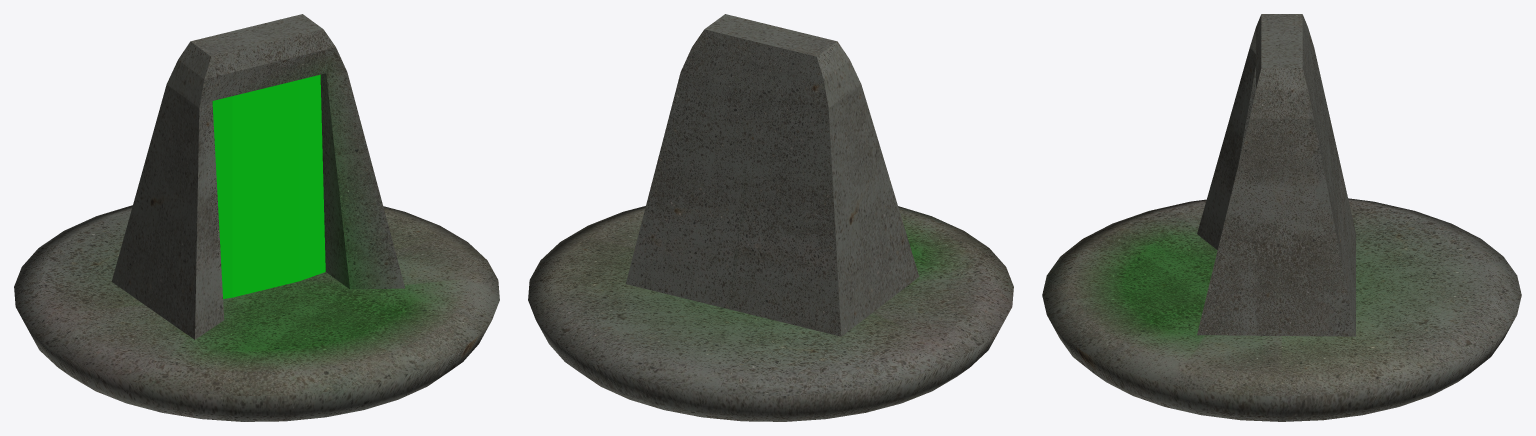
The model's file is HaloDoor.glb.
3 renders of one model, left to right at view 1: azimuth 30°, elevation 25°; view 2: azimuth 150°, elevation 25°; view 3: azimuth 270°, elevation 25°, orthographic.
Visible parts, largest first — view 1: Circle, Cube, Portal; view 2: Cube, Circle; view 3: Circle, Cube.
Part boxes in pixels (x1,y1,x2,y2): Circle: [14, 205, 499, 421]; Cube: [111, 14, 405, 339]; Portal: [212, 74, 325, 298]; Cube: [625, 14, 919, 336]; Circle: [528, 206, 1013, 421]; Circle: [1042, 198, 1521, 421]; Cube: [1197, 14, 1355, 336].
Bounding box in the file's own units: 1.78 × 1.19 × 1.78.
3 materials, 2 textured.
